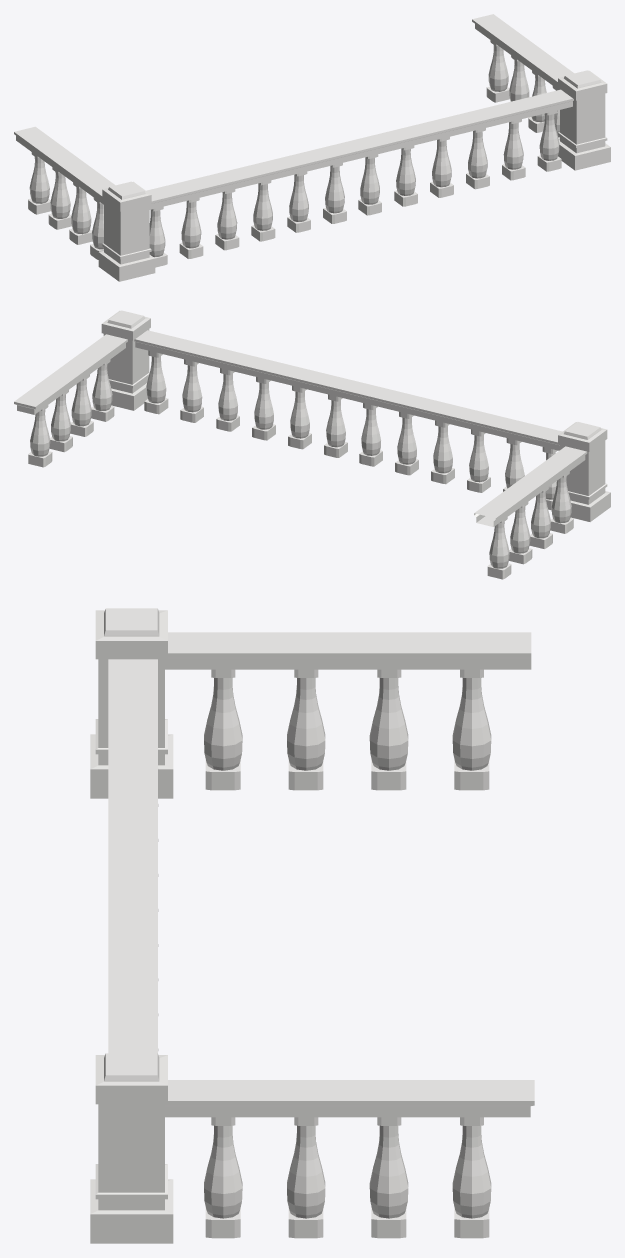
The model's file is Fence_5.fbx.
3 renders of one model, top to bottom at view 1: azimuth 30°, elevation 25°; view 2: azimuth 150°, elevation 25°; view 3: azimuth 270°, elevation 25°, orthographic. The views are drawn at different scales.
Visible parts, largest first — view 1: Fence_5; view 2: Fence_5; view 3: Fence_5.
Part boxes in pixels (x1,y1,x2,y2): Fence_5: (14,14,610,281); Fence_5: (14,310,610,579); Fence_5: (90,608,534,1243).
Size of the model in its own units: 753 by 295 by 121.
